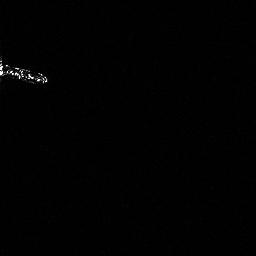ship: (1, 53, 50, 88)
